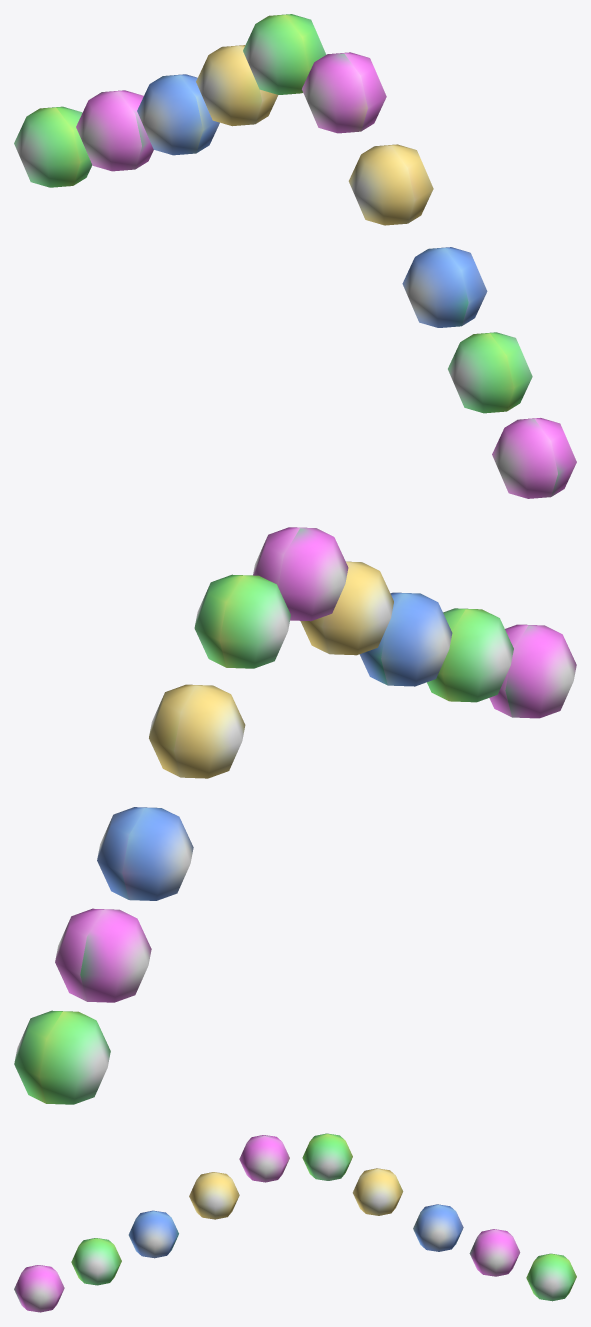
Rendered from o_light_00.fbx.
3 renders of one model, top to bottom at view 1: azimuth 30°, elevation 25°; view 2: azimuth 150°, elevation 25°; view 3: azimuth 270°, elevation 25°, orthographic. The views are drawn at different scales.
Parts seen in each view (by area): view 1: Object001; view 2: Object001; view 3: Object001.
Boxes of the visible parts, <box> form: Object001: <box>14,14,576,498</box>; Object001: <box>14,527,576,1104</box>; Object001: <box>14,1133,576,1312</box>.
Size of the model in its own units: 32.7 by 76.67 by 221.
1 material, 1 textured.
